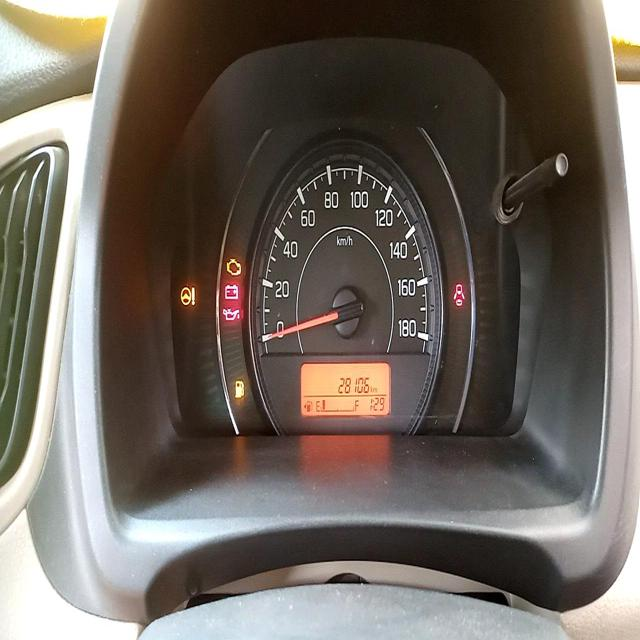odometer: (338, 375, 370, 396)
